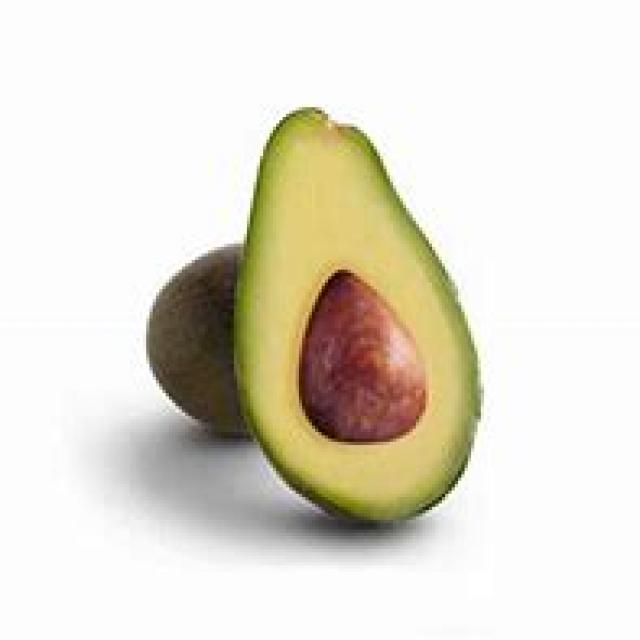Avocado: (235, 70, 486, 522), (128, 239, 238, 452)
